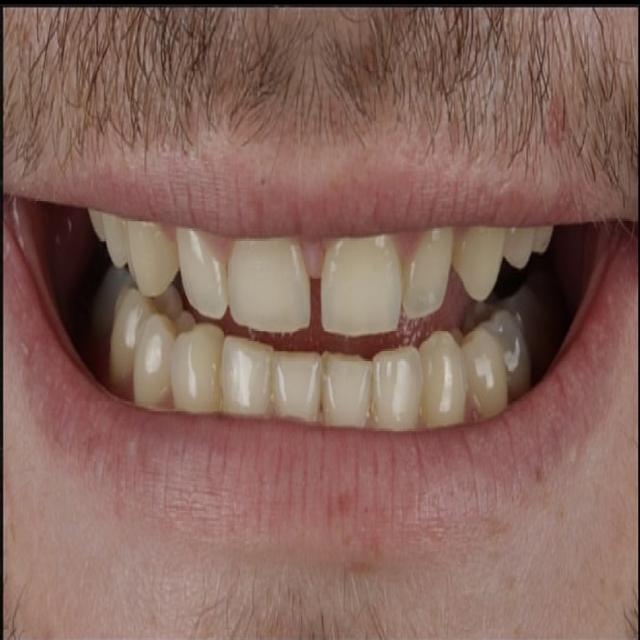tooth: (322, 247, 405, 341), (230, 243, 314, 334), (170, 234, 224, 324), (415, 342, 469, 420), (462, 326, 507, 418), (168, 330, 220, 409), (408, 223, 449, 317), (371, 357, 420, 432), (462, 226, 508, 304), (223, 336, 268, 414), (275, 351, 321, 422), (127, 218, 171, 292), (108, 286, 144, 376), (137, 311, 173, 400), (327, 363, 370, 431), (511, 231, 528, 271)
